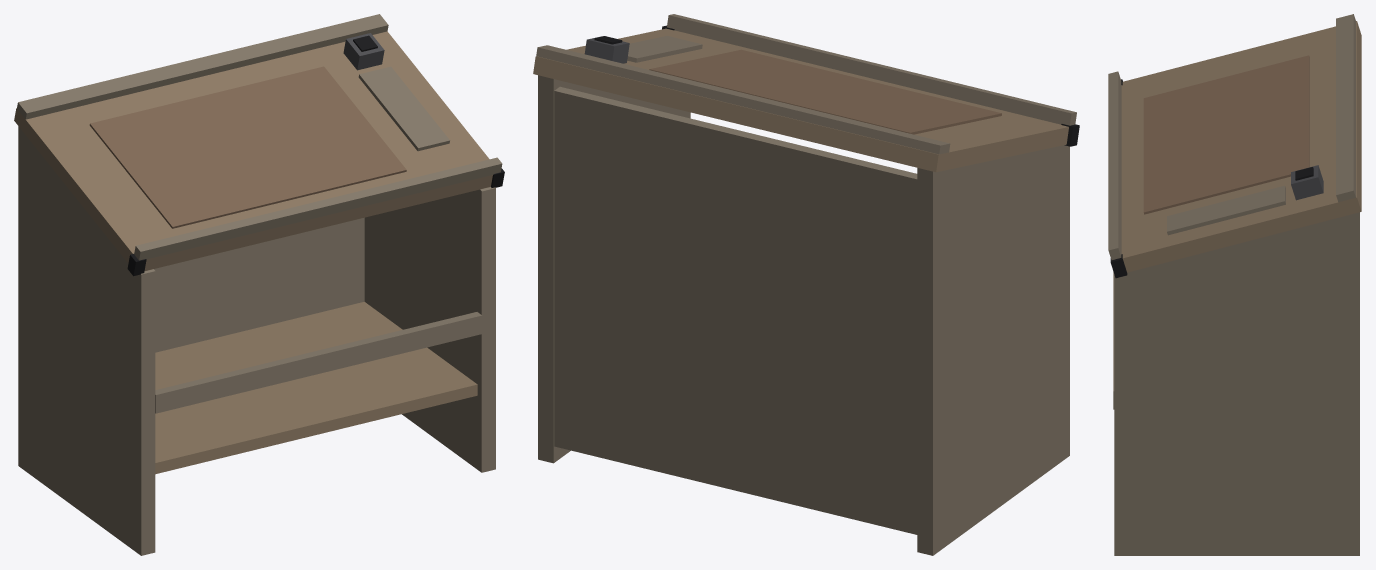
The model's file is schreibpult.glb.
3 views of the same model, side by side, from view 1: azimuth 30°, elevation 25°; view 2: azimuth 150°, elevation 25°; view 3: azimuth 270°, elevation 25° (orthographic). The views are drawn at different scales.
Parts seen in each view (by area): view 1: Schreibpult; view 2: Schreibpult; view 3: Schreibpult.
Boxes of the visible parts, left/top/right/bottom form: Schreibpult: left=14, top=14, right=504, bottom=555; Schreibpult: left=533, top=14, right=1079, bottom=555; Schreibpult: left=1108, top=14, right=1361, bottom=555.
Bounding box in the file's own units: 1.04 × 0.9911 × 0.6177.
